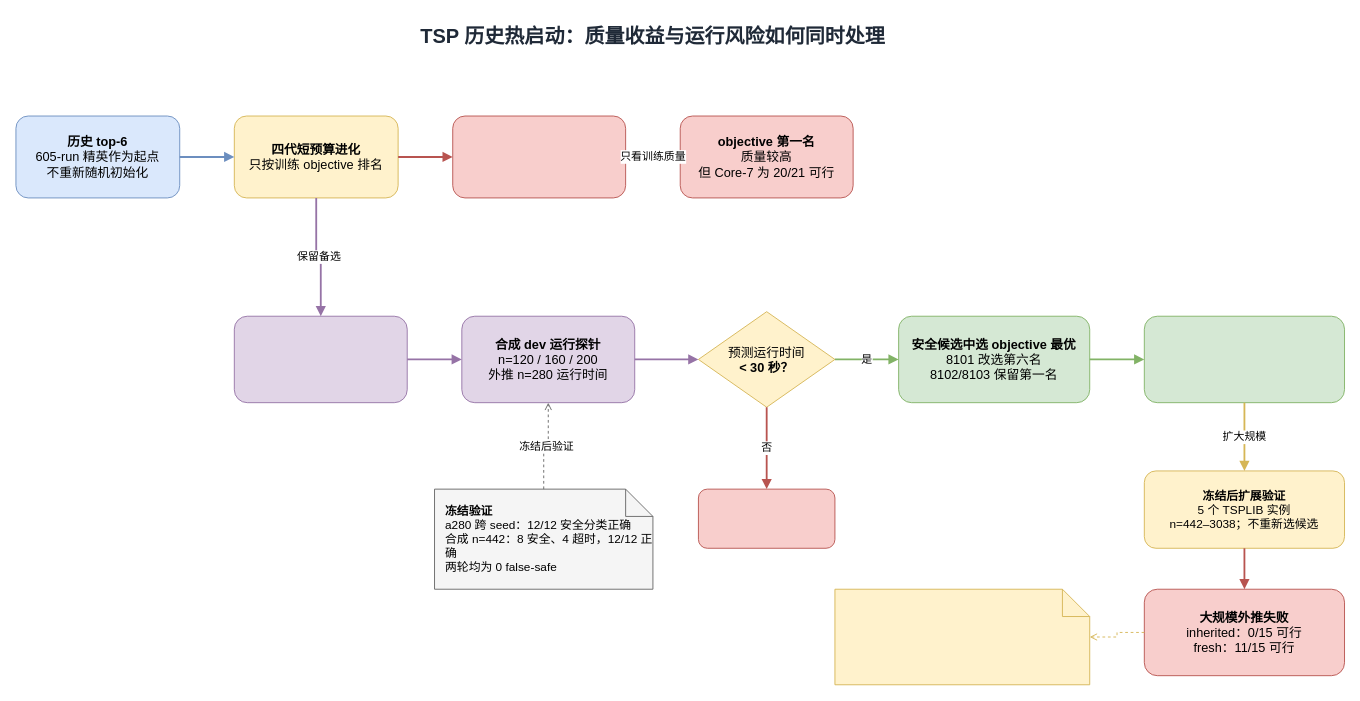
Some shapes in this 1360 by 701 pixel diagram are drawn without their labels. The shapes that lost their labels are listed below. From the top down, each one's centre as x and y in pixels, then its label:
the point at 539,156: 最终种群慢区 seed 8101 前五名 a280 全部超过 30 秒
the point at 320,359: 保留最终 top-6 第六名是历史种子 训练只比第一名差 1.19%
the point at 1244,359: 小规模风险被修复 Core-7：21/21 可行 3/3 获胜；中位收益 +5.414
the point at 766,518: 排除该候选 不读取 Core-7
the point at 962,636: 修正后的证据边界 运行探针只守住目标规模 n=280 不能写成 TSPLIB-full 鲁棒；需把大规模门槛加入确认协议
